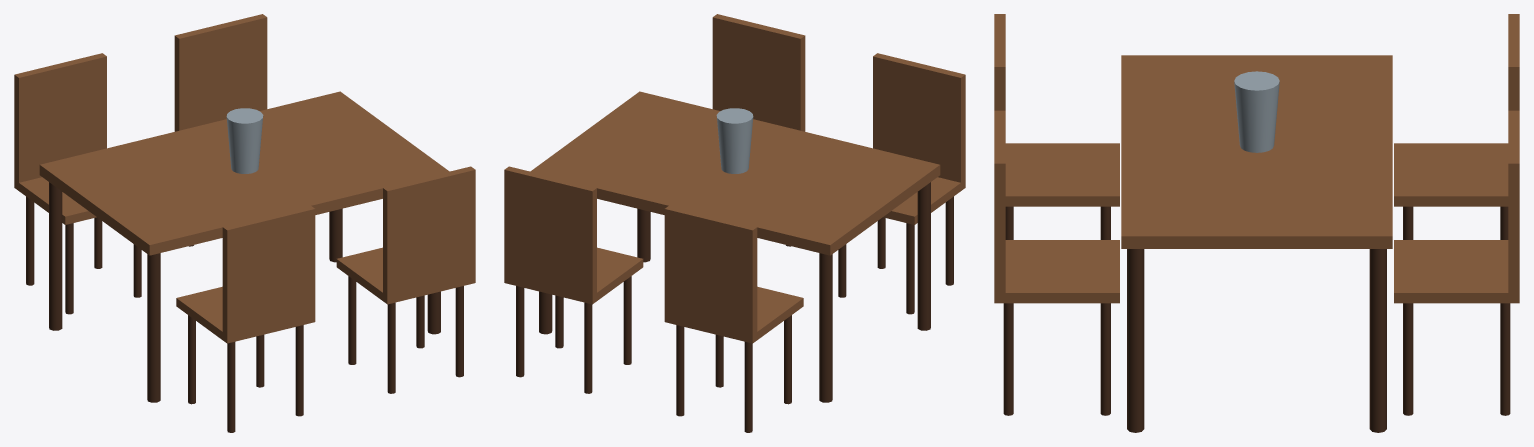
Rendered from diningSet.glb.
3 views of the same model, side by side, from view 1: azimuth 30°, elevation 25°; view 2: azimuth 150°, elevation 25°; view 3: azimuth 270°, elevation 25° (orthographic). The views are drawn at different scales.
Visible parts, largest first — view 1: diningSet; view 2: diningSet; view 3: diningSet.
Boxes of the visible parts, box(x1,y1,x2,y2) form: diningSet: box(14, 14, 475, 432); diningSet: box(504, 14, 965, 432); diningSet: box(994, 14, 1519, 432).
Size of the model in its own units: 1.5 by 1.02 by 1.84.
